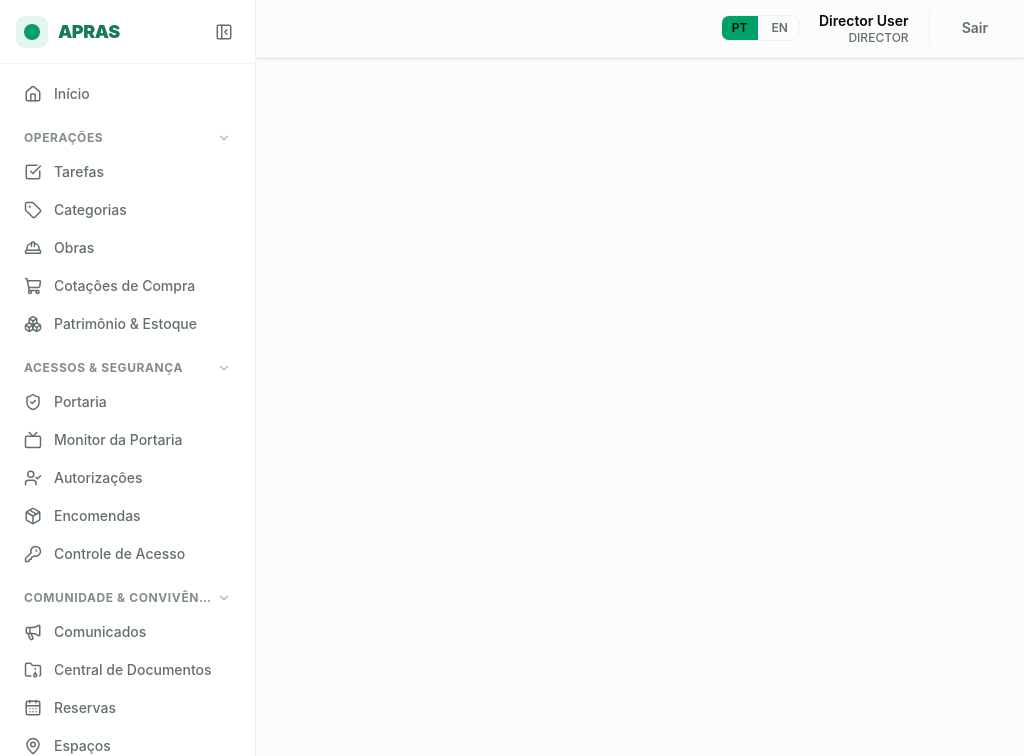
Test: Navbar › renders hamburger toggle button on mobile and desktop collapse button in sidebar
Note: Clicking desktop toggle updates its state
Click the button named "Recolher menu" at [224, 32], box [209,16,239,46]
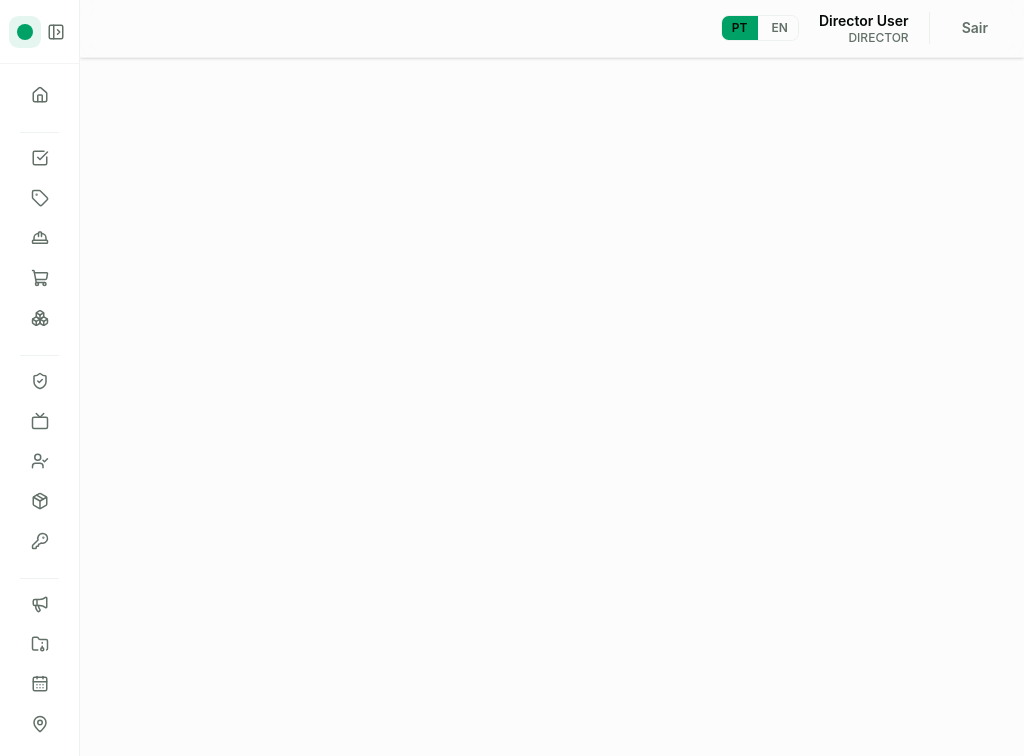
Expected: the button named "Expandir menu" is shown, [40,16,70,46]
